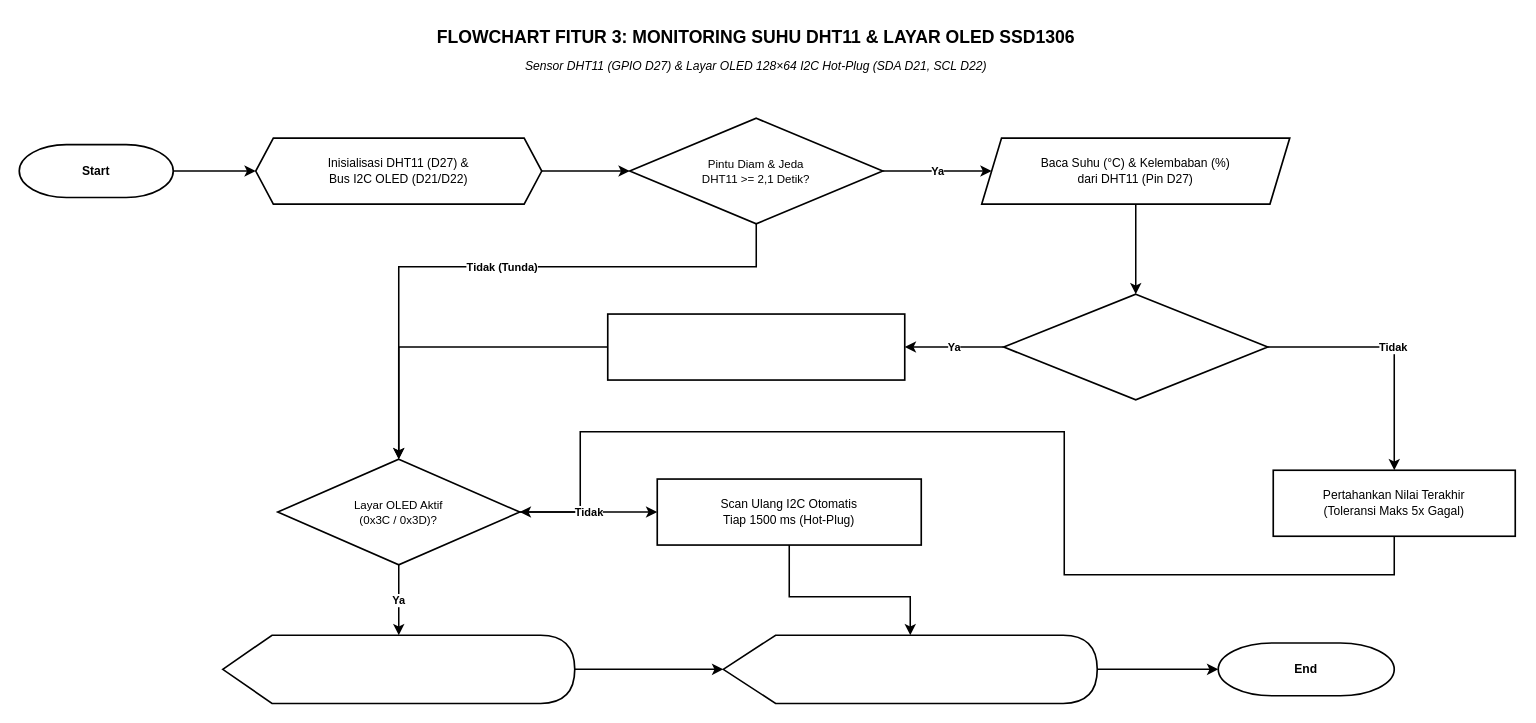
The diagram is 1536 pixels wide and 723 high, and some of its shapes have lost their labels. The shapes that lost their labels are listed below. From the top down, each one's box as (x1, y1, x2, y2) in pixels, then its label:
(606, 313, 905, 380): Simpan Suhu & Kelembaban Baru (Reset Penghitung Gagal)
(1002, 293, 1268, 400): Data Valid (-10..80 °C & 0..100%)?
(221, 634, 575, 704): Tampilkan IP, Animasi Wayang, Suhu °C, Lembab %, & "API: AMAN" di OLED
(722, 634, 1098, 704): Perbarui Kartu "Suhu Ruang" & Progress Bar pada Web Dashboard
